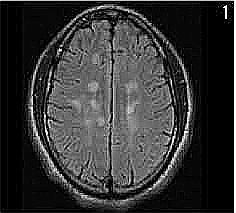Normal_Brain: (3, 3, 236, 213)
